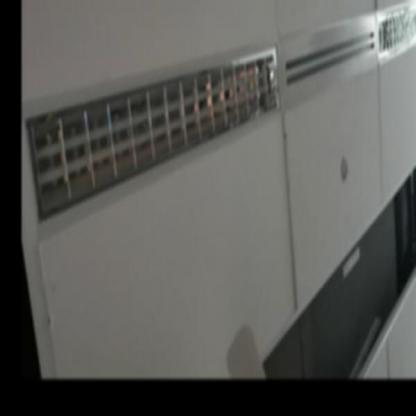light_off: (21, 38, 284, 230)
